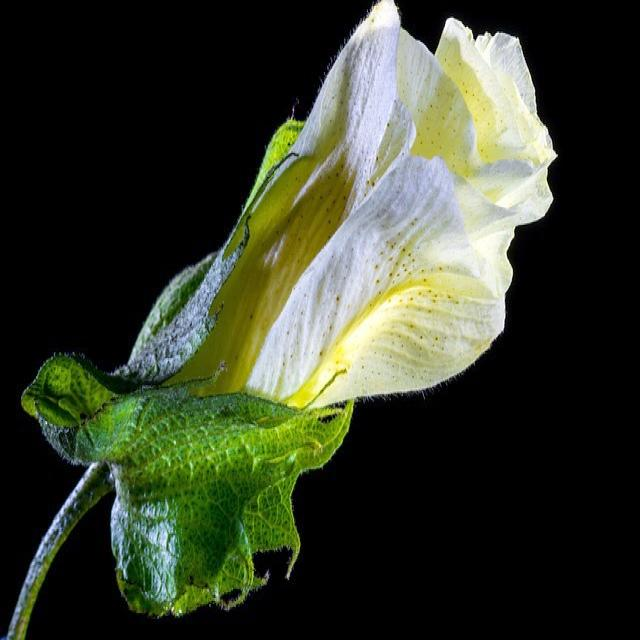Cotton Blossom: (49, 3, 551, 609)
